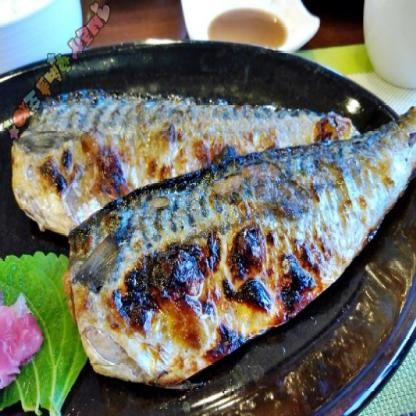Peixe: (14, 86, 416, 378)
